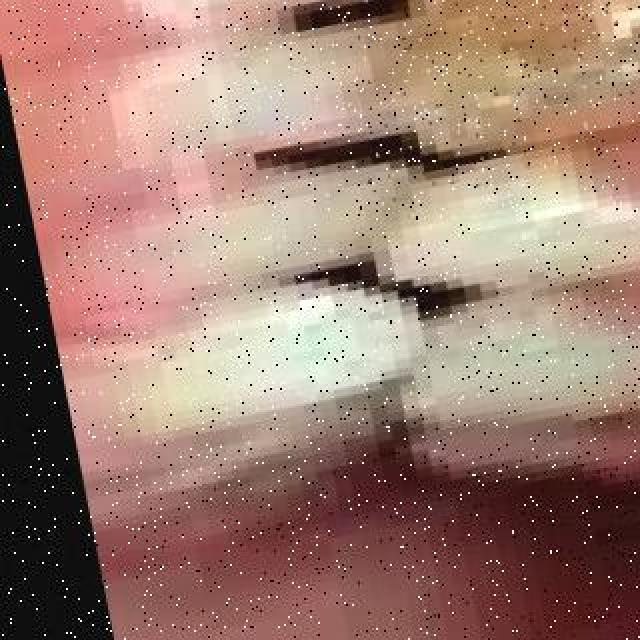cavities: (390, 0, 640, 160)
maligned: (146, 268, 422, 422)
spacing: (226, 126, 436, 186), (250, 0, 452, 50), (262, 235, 414, 301)
